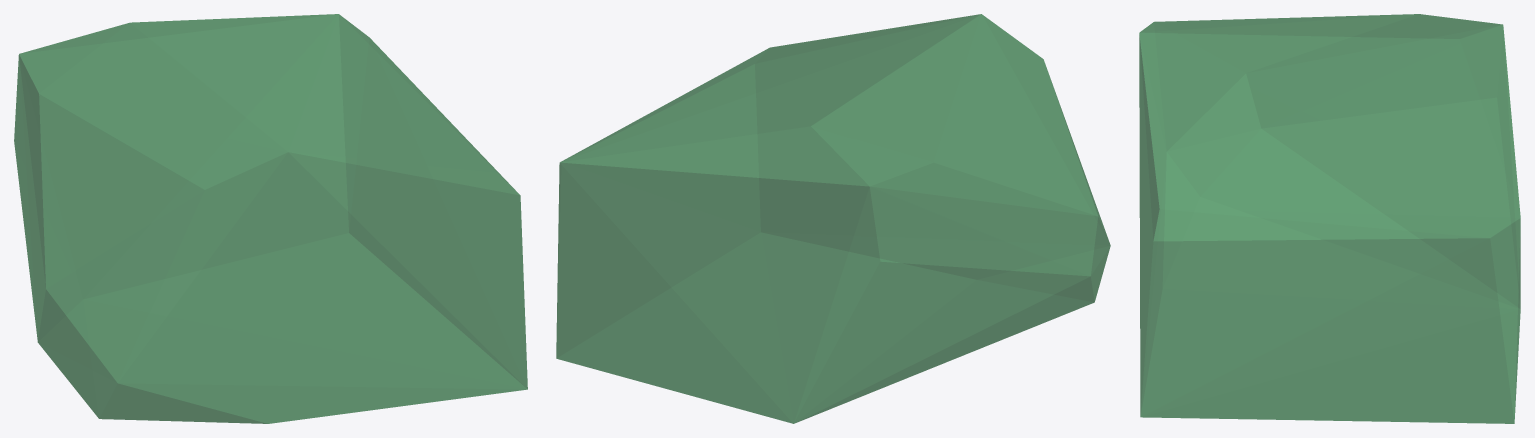
The picture shows the model from 3 angles, left to right: view 1: azimuth 30°, elevation 25°; view 2: azimuth 150°, elevation 25°; view 3: azimuth 270°, elevation 25°; orthographic projection. The views are drawn at different scales.
Parts seen in each view (by area): view 1: Shape_IndexedFaceSet.008_Shape_IndexedFaceSet.10833; view 2: Shape_IndexedFaceSet.008_Shape_IndexedFaceSet.10833; view 3: Shape_IndexedFaceSet.008_Shape_IndexedFaceSet.10833.
Part boxes in pixels (<box>): Shape_IndexedFaceSet.008_Shape_IndexedFaceSet.10833: <box>14,14,527,423</box>; Shape_IndexedFaceSet.008_Shape_IndexedFaceSet.10833: <box>556,14,1110,423</box>; Shape_IndexedFaceSet.008_Shape_IndexedFaceSet.10833: <box>1139,14,1520,423</box>.
Bounding box in the file's own units: 0.3043 × 0.1902 × 0.2377.
